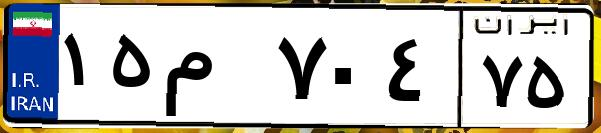0: (330, 28, 385, 110)
1: (57, 26, 110, 100)
4: (385, 28, 445, 110)
5: (525, 38, 570, 115), (110, 28, 158, 98)
7: (270, 28, 330, 110), (475, 38, 525, 113)
م: (158, 20, 270, 120)
